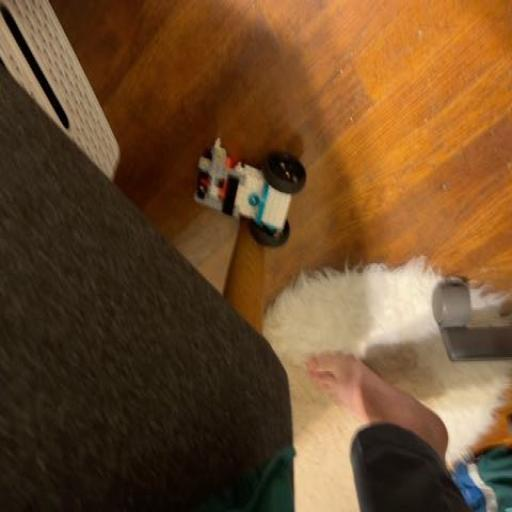Opponent: (188, 136, 307, 256)
